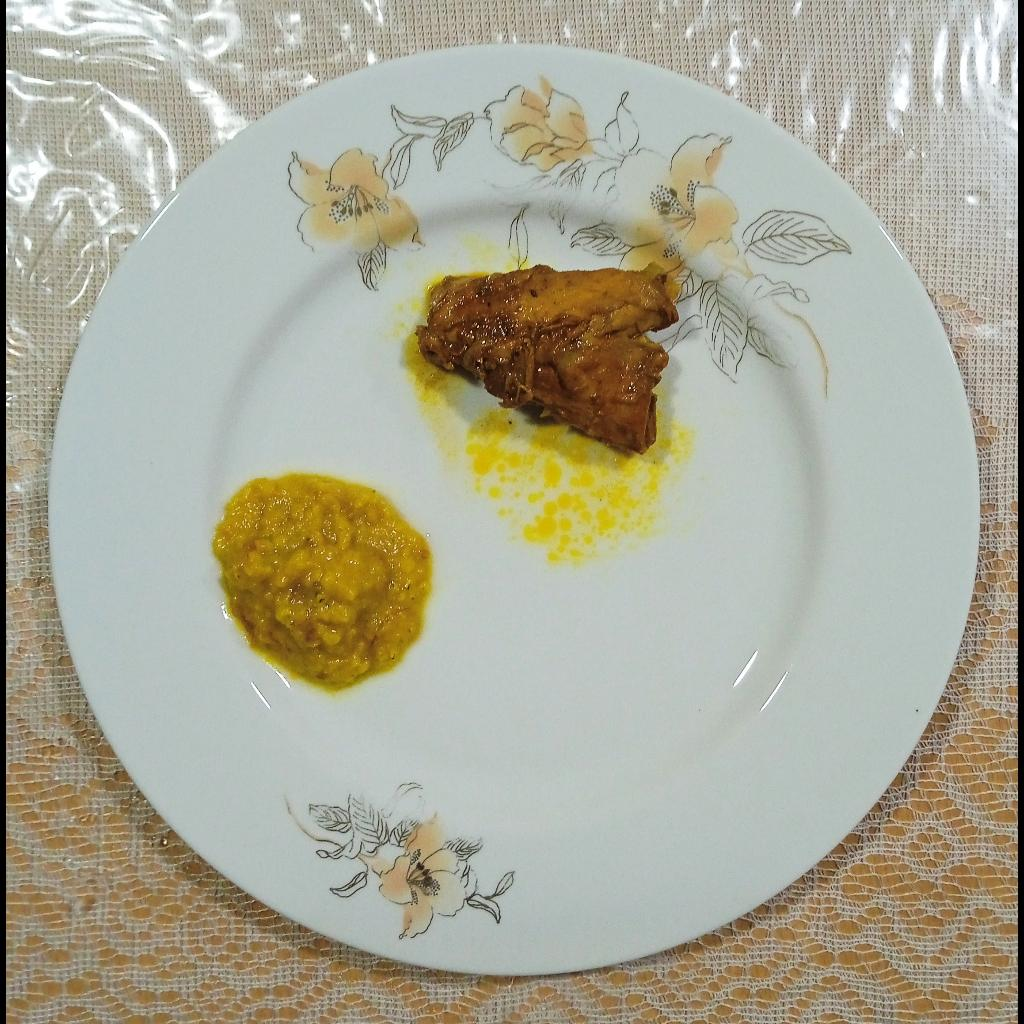chicken: (418, 261, 678, 455)
daal: (213, 473, 433, 697)
